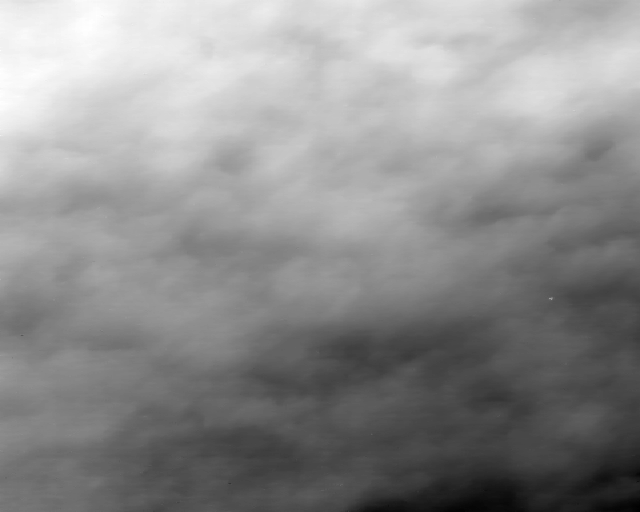Target: (548, 297, 554, 300)
